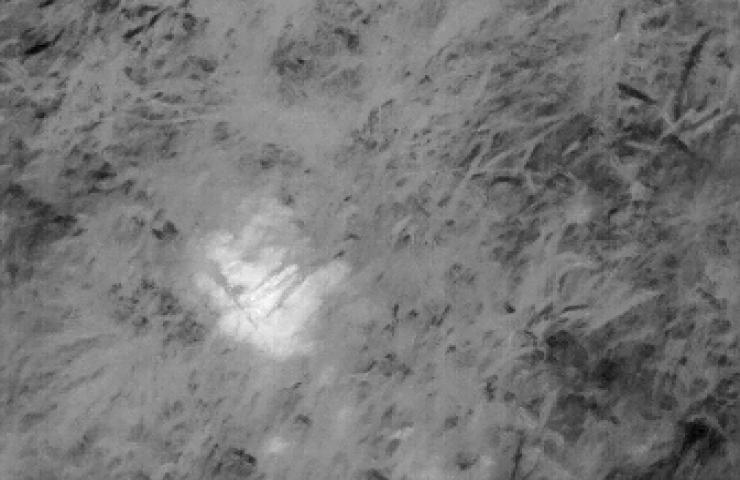landmines: (195, 214, 324, 350)
